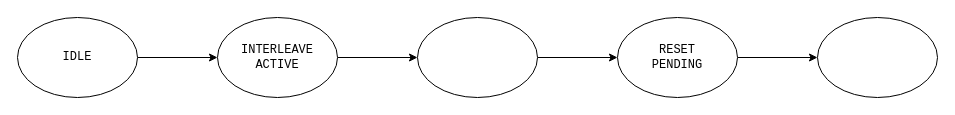
Image size: 955x115. Some labels were removed from this diagram. Here are the shapes that lost their labels. From the top down, the centre of each, then its label:
At point 477,57: "ACTIVE".
At point 877,57: "COMMIT".
